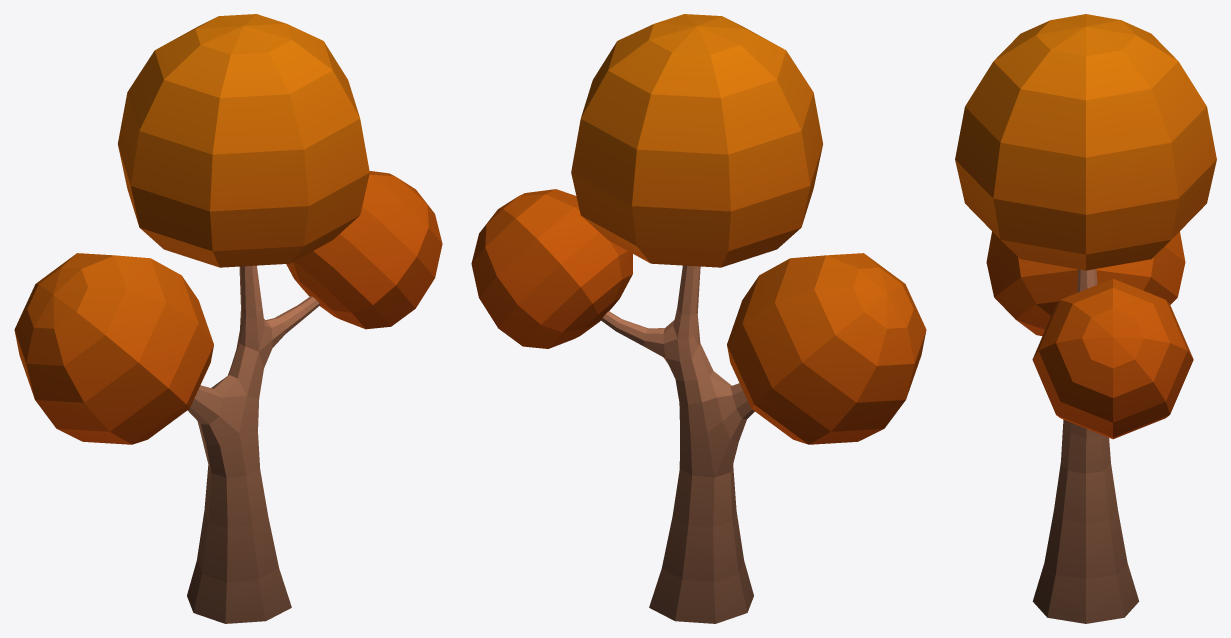
The model's file is autumn tree 2.fbx.
The picture shows the model from 3 angles, left to right: view 1: azimuth 30°, elevation 25°; view 2: azimuth 150°, elevation 25°; view 3: azimuth 270°, elevation 25°; orthographic projection.
Parts seen in each view (by area): view 1: autumn tree 2; view 2: autumn tree 2; view 3: autumn tree 2.
Part boxes in pixels (x1,y1,x2,y2): autumn tree 2: [14, 14, 442, 623]; autumn tree 2: [471, 14, 926, 623]; autumn tree 2: [955, 14, 1216, 623].
Size of the model in its own units: 498 by 653 by 269.
